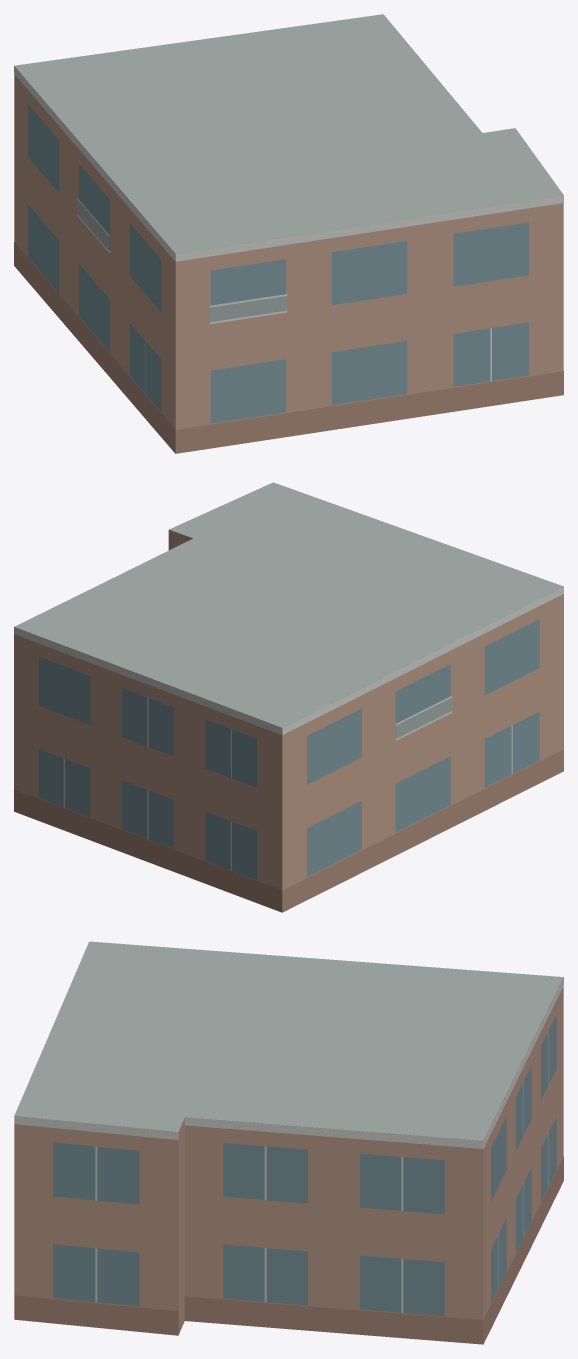
Rendered from survey-upis-32899922.glb.
3 renders of one model, top to bottom at view 1: azimuth 30°, elevation 25°; view 2: azimuth 150°, elevation 25°; view 3: azimuth 270°, elevation 25°, orthographic. The views are drawn at different scales.
Visible parts, largest first — view 1: survey-upis-32899922.tmp; view 2: survey-upis-32899922.tmp; view 3: survey-upis-32899922.tmp.
Part boxes in pixels (<box>): survey-upis-32899922.tmp: <box>14,14,563,453</box>; survey-upis-32899922.tmp: <box>14,482,563,912</box>; survey-upis-32899922.tmp: <box>14,941,563,1344</box>.
Bounding box in the file's own units: 12.83 × 6.1 × 14.93.
